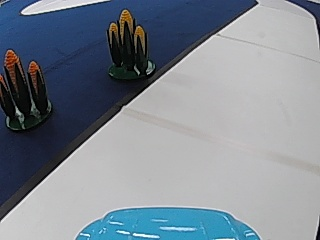corn: (0, 48, 53, 129), (103, 6, 156, 80)
